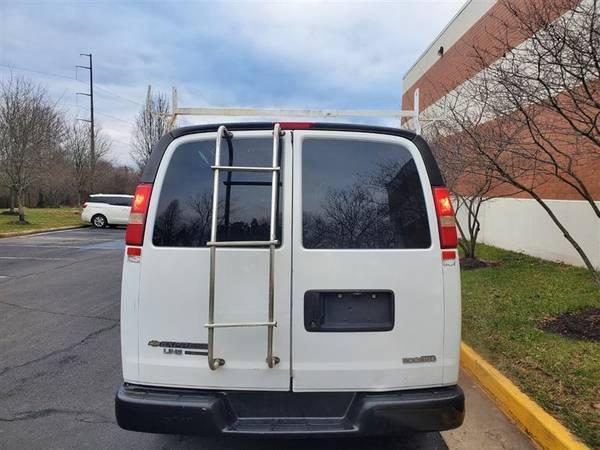Left_Taillight: (124, 177, 153, 247)
Rear_Bumper: (113, 383, 468, 439)
Right_Taillight: (435, 188, 460, 250)
Tailgate: (121, 127, 463, 391)
